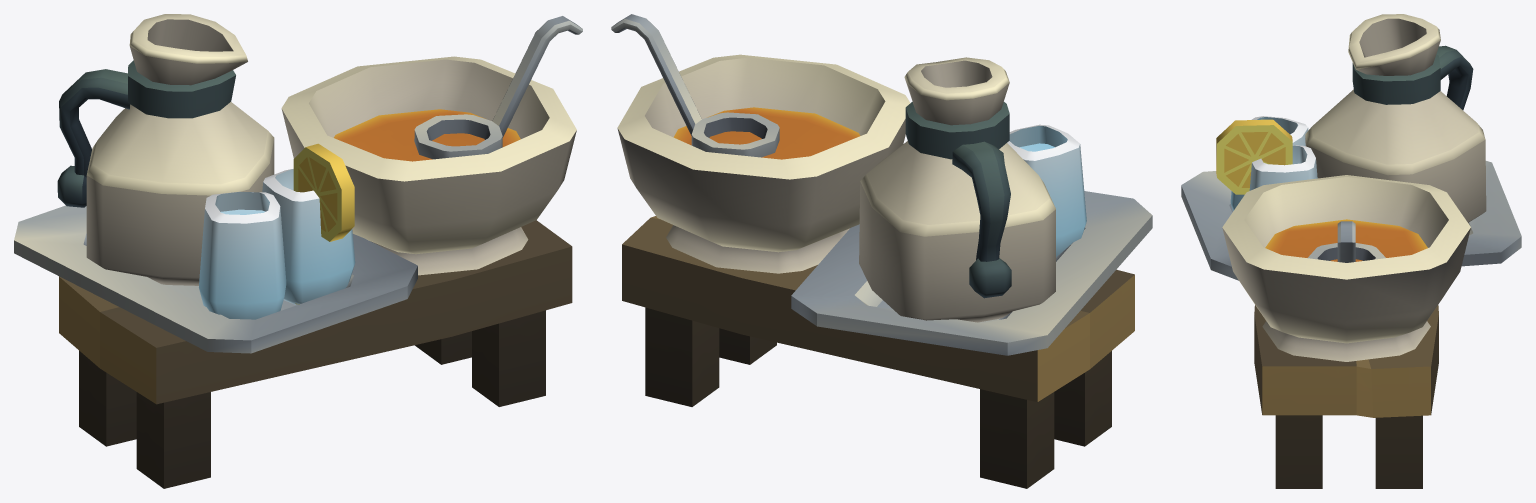
Rendered from bench_drinks_soup.fbx.
3 renders of one model, left to right at view 1: azimuth 30°, elevation 25°; view 2: azimuth 150°, elevation 25°; view 3: azimuth 270°, elevation 25°, orthographic. The views are drawn at different scales.
Parts seen in each view (by area): view 1: bench_drinks_soup; view 2: bench_drinks_soup; view 3: bench_drinks_soup.
Boxes of the visible parts, x1,y1,x2,y2 form: bench_drinks_soup: [14, 14, 582, 488]; bench_drinks_soup: [611, 14, 1152, 488]; bench_drinks_soup: [1181, 14, 1521, 488].
Bounding box in the file's own units: 120 × 88.12 × 81.9.
